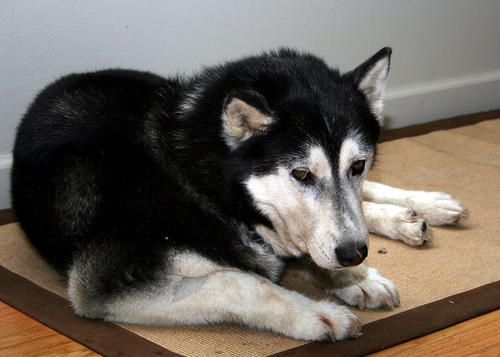dog: (11, 47, 464, 343)
